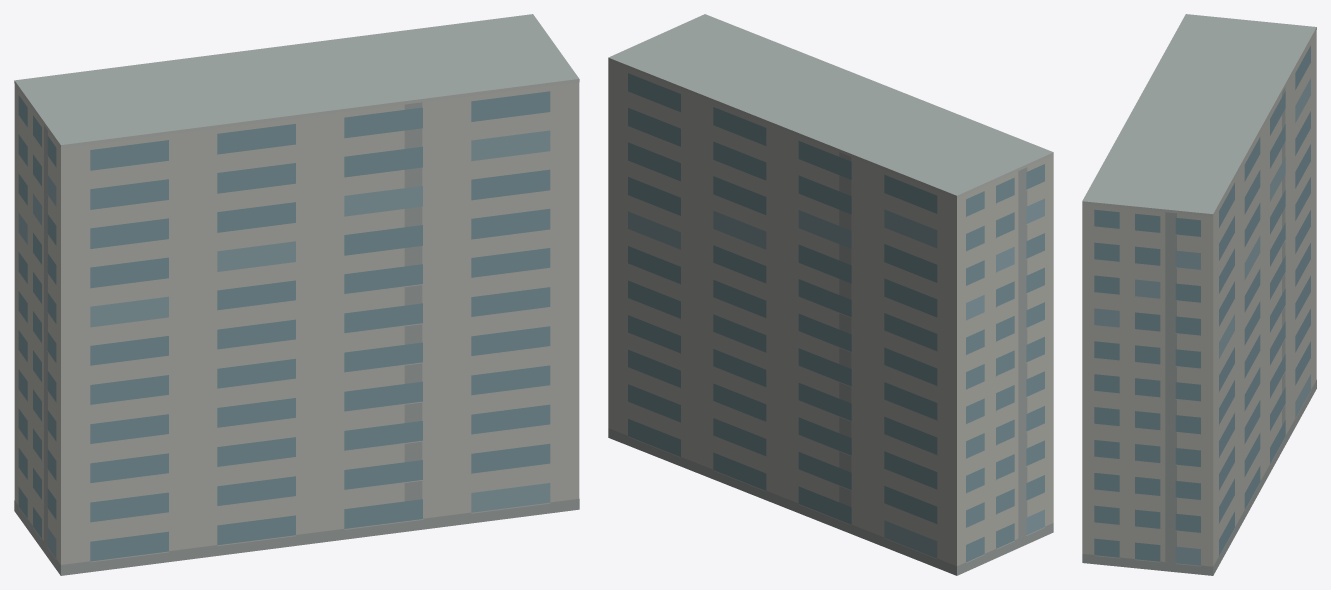
The model's file is residential-121e35e2-6ada-42fc-9e16-cdf2e7b24370.glb.
The picture shows the model from 3 angles, left to right: view 1: azimuth 30°, elevation 25°; view 2: azimuth 150°, elevation 25°; view 3: azimuth 270°, elevation 25°; orthographic projection. The views are drawn at different scales.
Parts seen in each view (by area): view 1: residential-121e35e2-6ada-42fc-9e16-cdf2e7b24370.tmp; view 2: residential-121e35e2-6ada-42fc-9e16-cdf2e7b24370.tmp; view 3: residential-121e35e2-6ada-42fc-9e16-cdf2e7b24370.tmp.
Boxes of the visible parts, box(x1,y1,x2,y2) form: residential-121e35e2-6ada-42fc-9e16-cdf2e7b24370.tmp: box(14, 14, 579, 575); residential-121e35e2-6ada-42fc-9e16-cdf2e7b24370.tmp: box(608, 14, 1053, 575); residential-121e35e2-6ada-42fc-9e16-cdf2e7b24370.tmp: box(1082, 14, 1316, 575).
Size of the model in its own units: 36.8 by 31 by 18.23.
